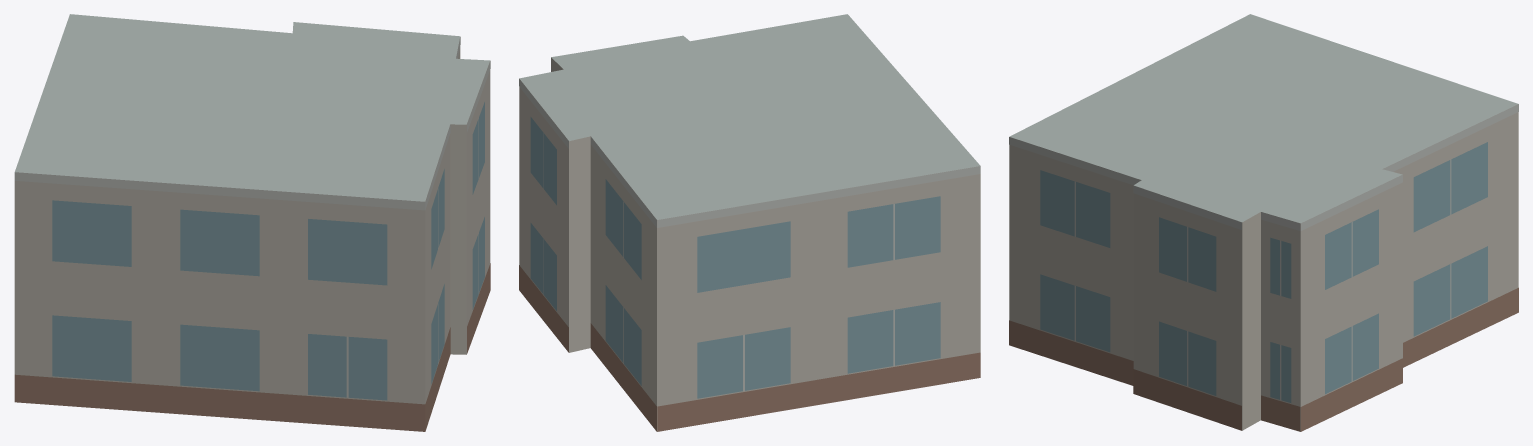
File: survey-upis-32675780.glb
3 renders of one model, left to right at view 1: azimuth 30°, elevation 25°; view 2: azimuth 150°, elevation 25°; view 3: azimuth 270°, elevation 25°, orthographic. The views are drawn at different scales.
Visible parts, largest first — view 1: survey-upis-32675780.tmp; view 2: survey-upis-32675780.tmp; view 3: survey-upis-32675780.tmp.
Part boxes in pixels (left/top/right/bottom): survey-upis-32675780.tmp: left=14, top=14, right=490, bottom=431; survey-upis-32675780.tmp: left=519, top=14, right=980, bottom=431; survey-upis-32675780.tmp: left=1009, top=14, right=1518, bottom=431.
Bounding box in the file's own units: 14.01 × 6.5 × 14.41.
